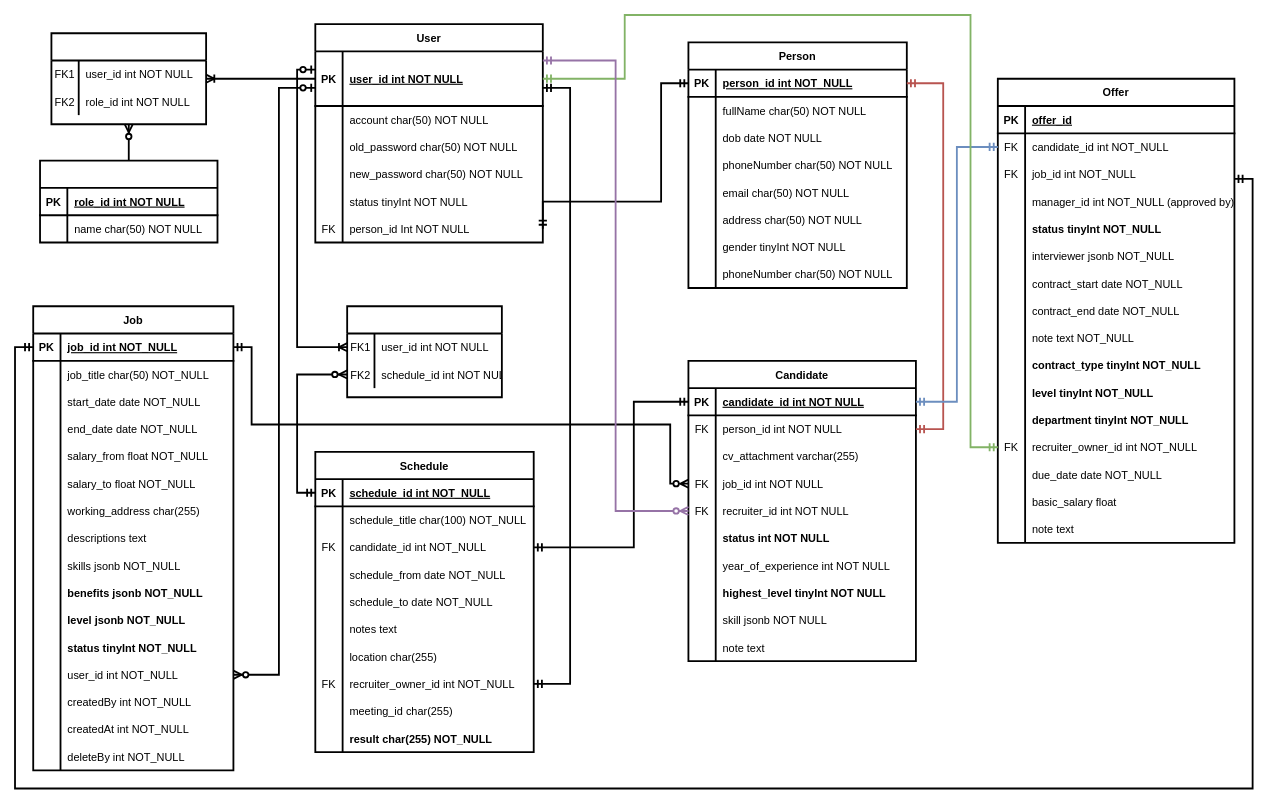
Some shapes in this 1268 by 804 pixel diagram are drawn without their labels. Here are the shapes that lost their labels. From the top down, the box of each, then its label:
(50, 32, 207, 125): User_Role
(39, 159, 218, 243): Roles
(346, 305, 502, 398): User_Schedule
